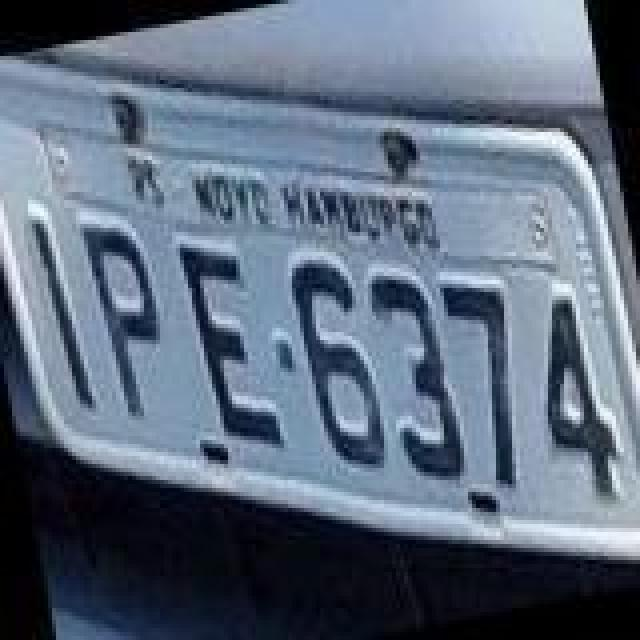1: (28, 208, 100, 416)
3: (364, 260, 468, 492)
4: (524, 292, 628, 508)
6: (284, 252, 388, 476)
7: (438, 272, 538, 496)
E: (178, 228, 286, 460)
P: (78, 212, 178, 428)
